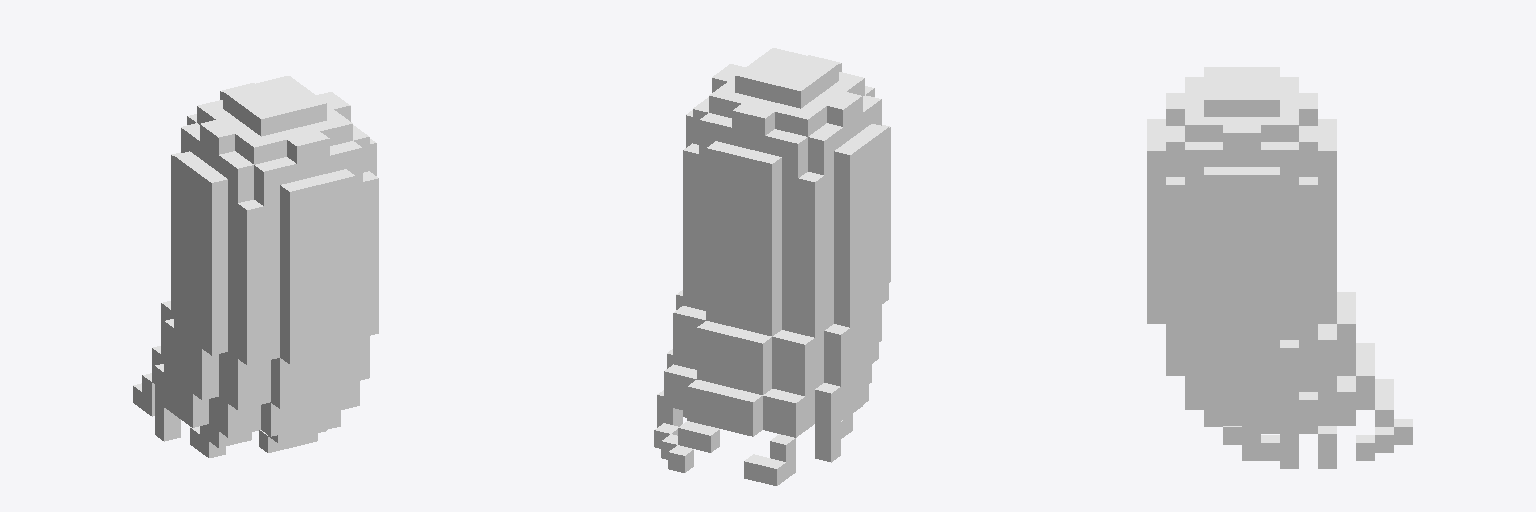
Rendered from SM-2-Ghost.obj.
The picture shows the model from 3 angles: view 1: azimuth 30°, elevation 25°; view 2: azimuth 150°, elevation 25°; view 3: azimuth 270°, elevation 25°; orthographic projection.
Parts seen in each view (by area): view 1: Ghost; view 2: Ghost; view 3: Ghost.
Part boxes in pixels (x1,y1,x2,y2): Ghost: (133, 76, 378, 457); Ghost: (654, 48, 890, 485); Ghost: (1147, 67, 1412, 468).
Bounding box in the file's own units: 1 × 2 × 1.4.